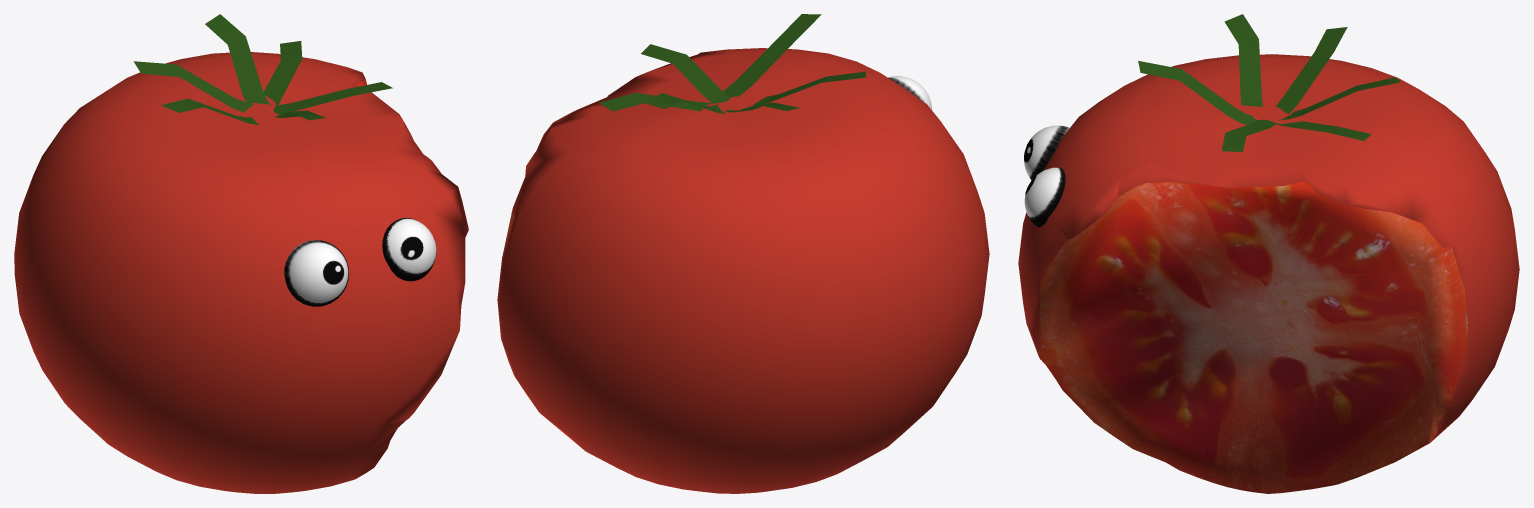
Rendered from Tomate Kaputt.fbx.
The picture shows the model from 3 angles, left to right: view 1: azimuth 30°, elevation 25°; view 2: azimuth 150°, elevation 25°; view 3: azimuth 270°, elevation 25°; orthographic projection. The views are drawn at different scales.
Visible parts, largest first — view 1: Sphere.021, Sphere.014, Sphere.013; view 2: Sphere.021; view 3: Sphere.021, Sphere.013, Sphere.014.
Part boxes in pixels (x1=…): Sphere.021: x1=14, y1=14, x2=468, y2=493; Sphere.014: x1=284, y1=240, x2=348, y2=306; Sphere.013: x1=382, y1=217, x2=436, y2=281; Sphere.021: x1=497, y1=14, x2=989, y2=493; Sphere.021: x1=1018, y1=14, x2=1519, y2=493; Sphere.013: x1=1024, y1=167, x2=1065, y2=227; Sphere.014: x1=1024, y1=125, x2=1069, y2=179.
Bounding box in the file's own units: 163 × 176 × 200.
